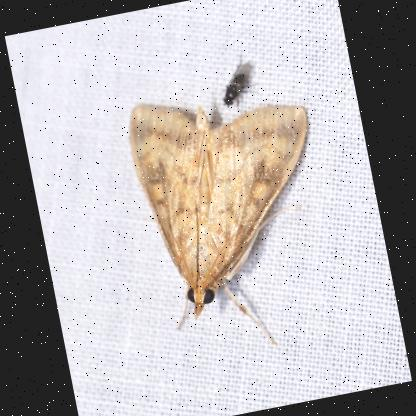Asian Corn Borer Moth: (113, 68, 352, 370)
